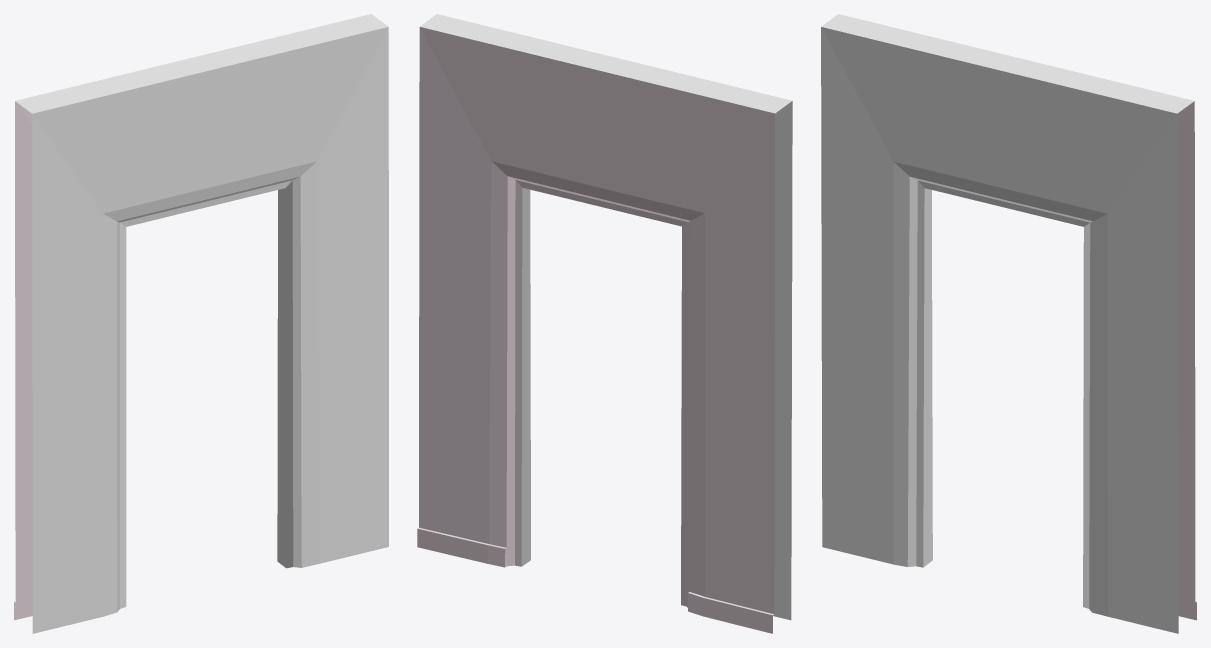
File: env_wall_door_rect_ext.fbx
3 views of the same model, side by side, from view 1: azimuth 30°, elevation 25°; view 2: azimuth 150°, elevation 25°; view 3: azimuth 330°, elevation 25° (orthographic).
Visible parts, largest first — view 1: Casa pared rectang marco puerta Exterior; view 2: Casa pared rectang marco puerta Exterior; view 3: Casa pared rectang marco puerta Exterior.
Part boxes in pixels (x1,y1,x2,y2): Casa pared rectang marco puerta Exterior: [14, 14, 388, 633]; Casa pared rectang marco puerta Exterior: [417, 14, 792, 633]; Casa pared rectang marco puerta Exterior: [821, 14, 1196, 633].
Bounding box in the file's own units: 201 × 280 × 18.56.
2 materials, 2 textured.
